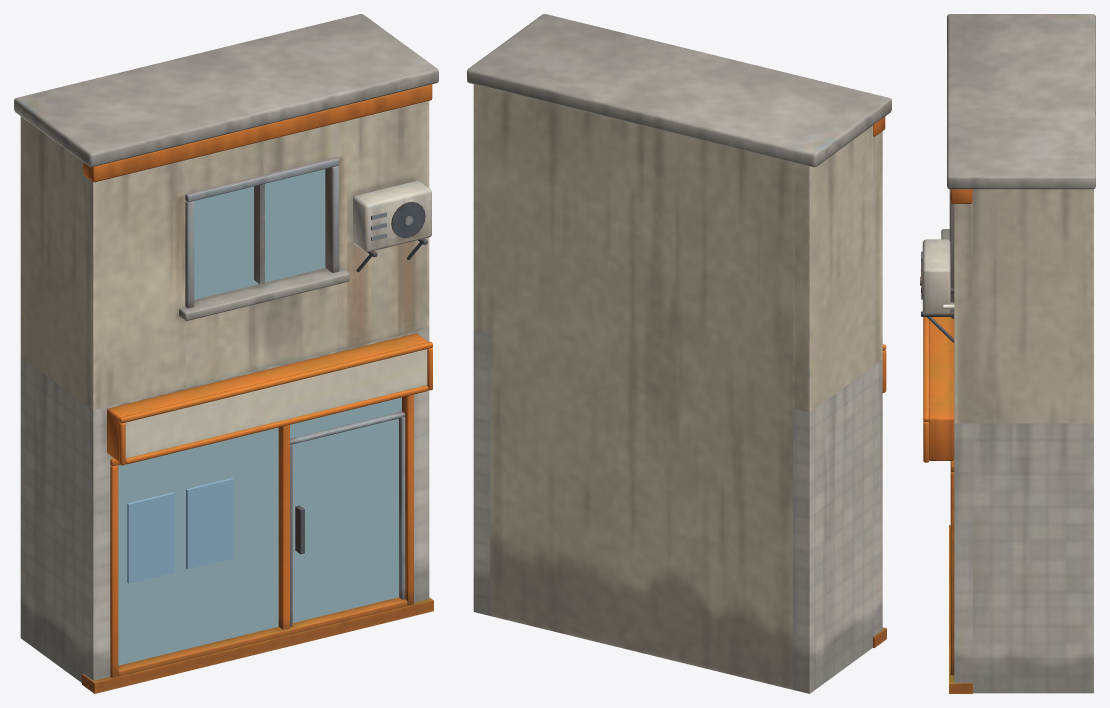
File: filler_phone_shop.glb
3 views of the same model, side by side, from view 1: azimuth 30°, elevation 25°; view 2: azimuth 150°, elevation 25°; view 3: azimuth 270°, elevation 25° (orthographic). The views are drawn at different scales.
Parts seen in each view (by area): view 1: filler_phone_shop; view 2: filler_phone_shop; view 3: filler_phone_shop.
Boxes of the visible parts, box(x1,y1,x2,y2) form: filler_phone_shop: box(14, 14, 438, 693); filler_phone_shop: box(467, 14, 891, 693); filler_phone_shop: box(920, 14, 1095, 693).
Bounding box in the file's own units: 4.16 × 6.16 × 1.89.
11 materials, 9 textured.
